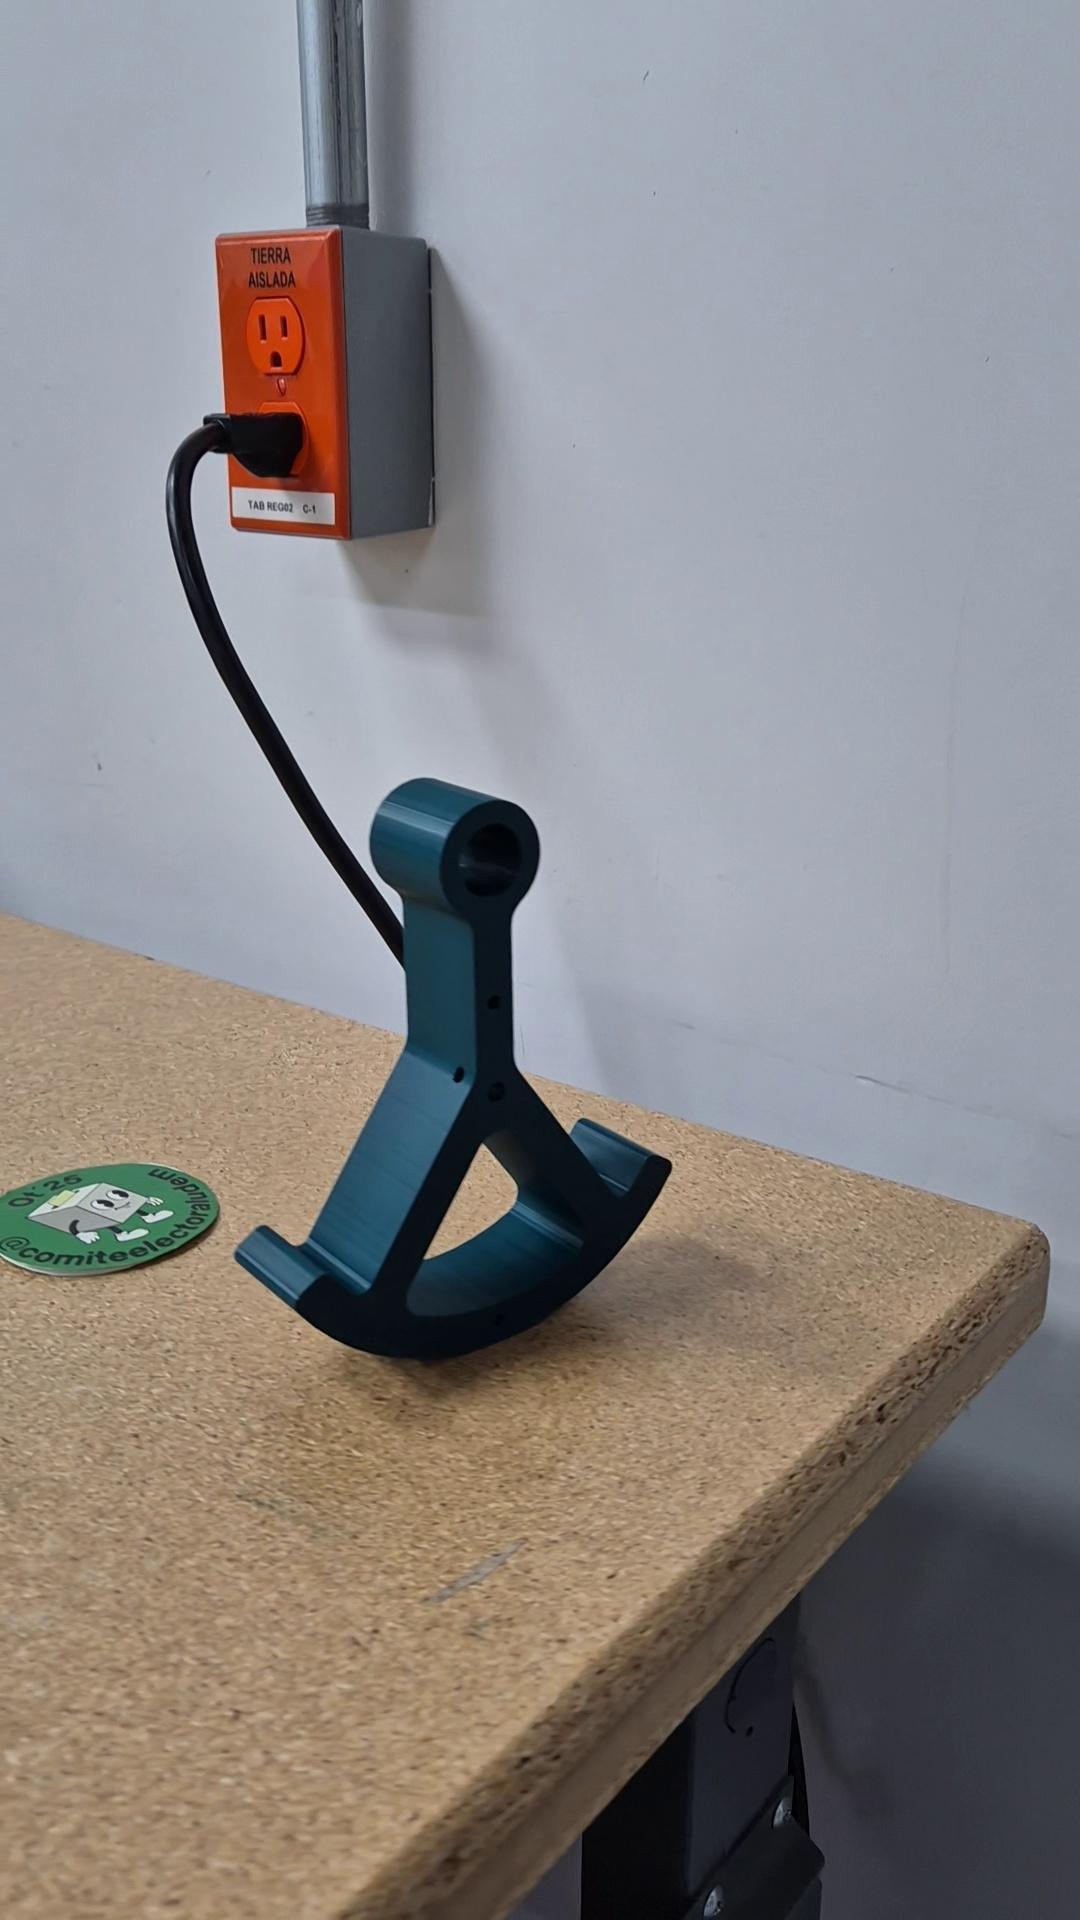Paddles: (231, 774, 676, 1363)
